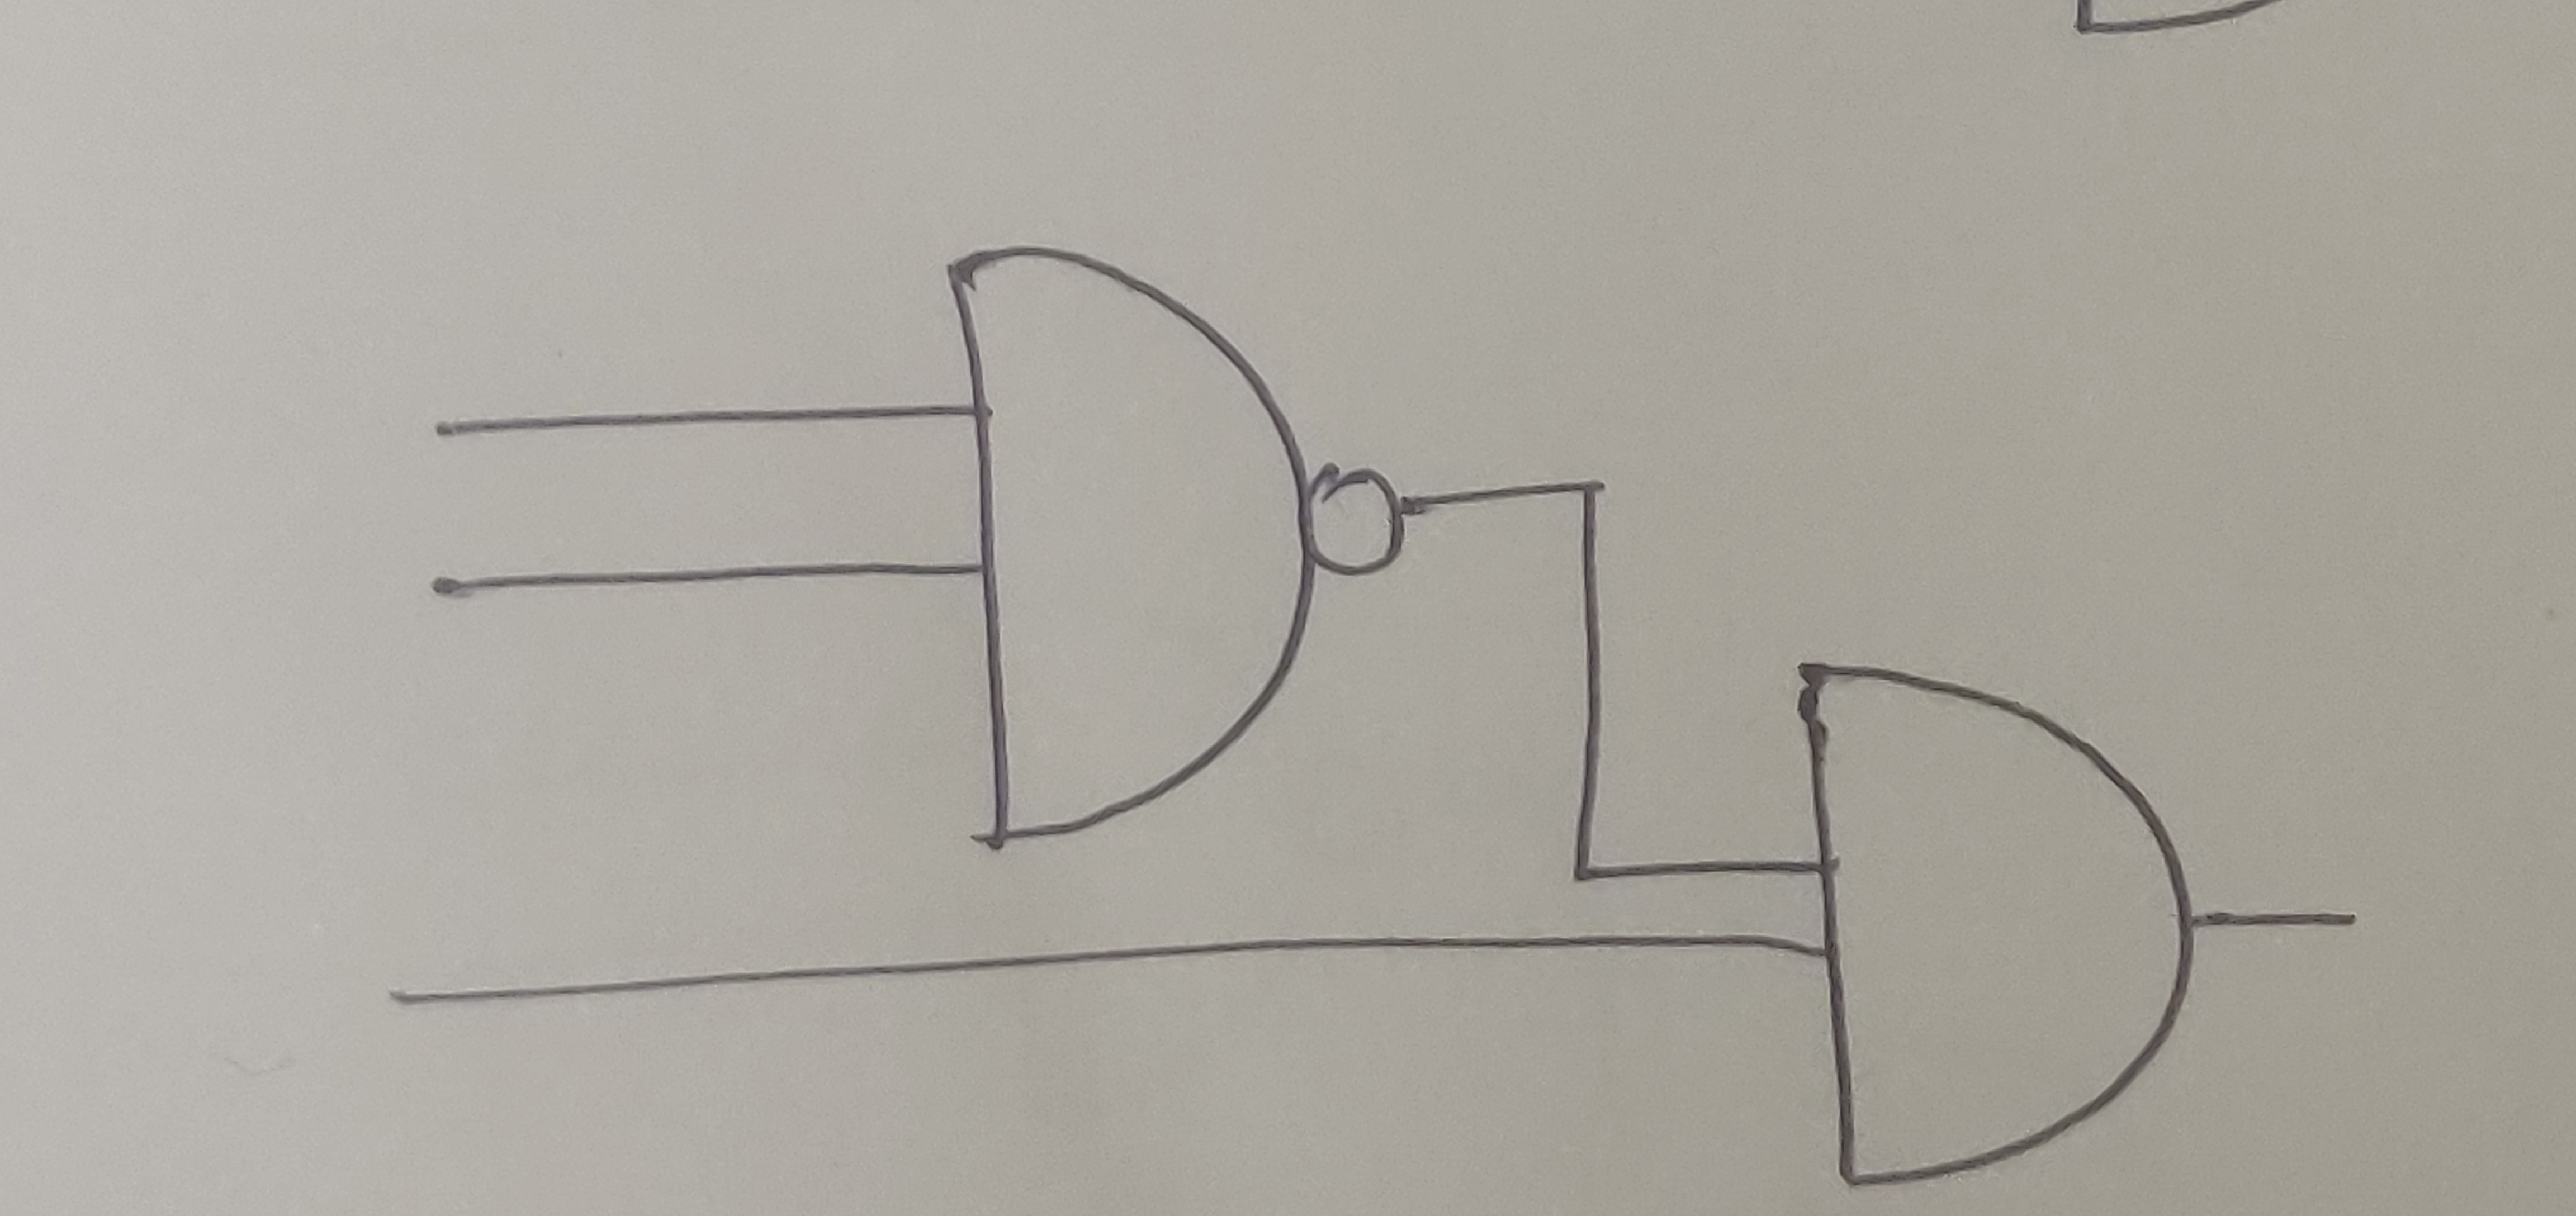and: (940, 243, 1314, 854), (1791, 657, 2211, 1190)
not: (1304, 463, 1413, 582)
